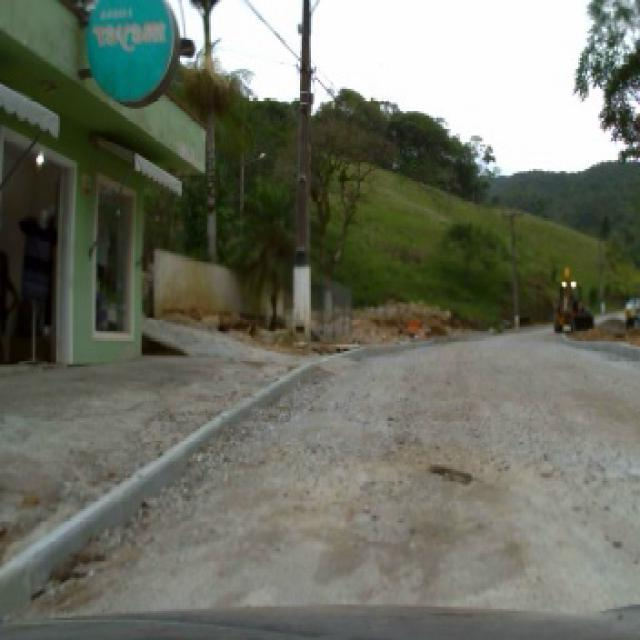Poth-hole: (428, 460, 477, 487)
